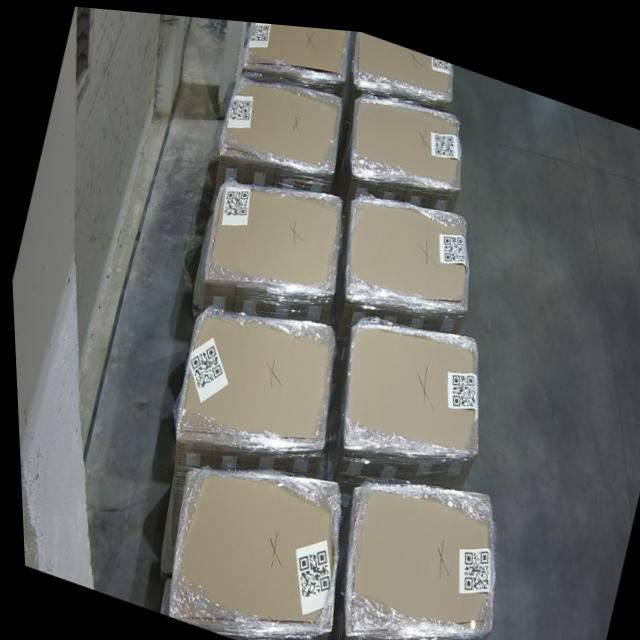pallet: (156, 465, 336, 626), (335, 475, 495, 626), (166, 306, 332, 437), (341, 316, 481, 441), (199, 179, 339, 289), (343, 192, 468, 301), (216, 76, 342, 167), (349, 89, 462, 182), (354, 25, 454, 94), (241, 17, 348, 75)
